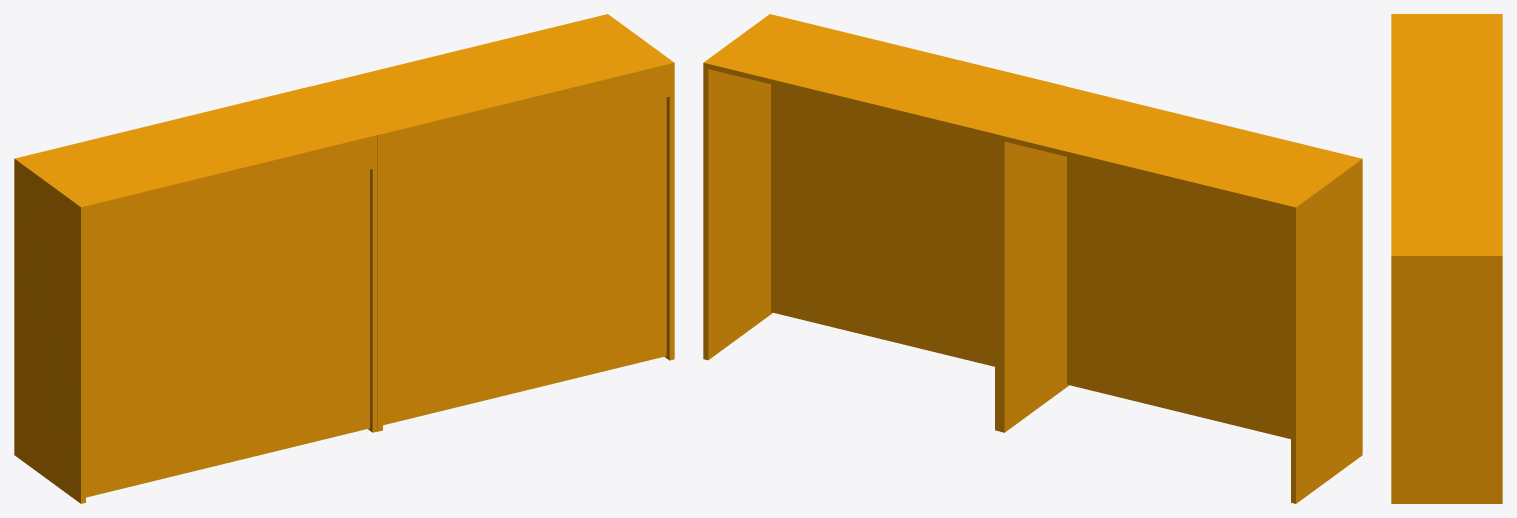
File: proyecto.glb
3 renders of one model, left to right at view 1: azimuth 30°, elevation 25°; view 2: azimuth 150°, elevation 25°; view 3: azimuth 270°, elevation 25°, orthographic. The views are drawn at different scales.
Visible parts, largest first — view 1: P003, P012, P017, P010, P001, P011, P002, P009, P018, P008; view 2: P003, P012, P017, P001, P010, P018, P009, P008; view 3: P009, P001, P010, P008, P017, P018.
Part boxes in pixels (<box>): P003: <box>383,97,666,425</box>; P012: <box>86,169,369,497</box>; P017: <box>14,157,85,503</box>; P010: <box>20,87,372,211</box>; P001: <box>316,15,669,138</box>; P011: <box>86,141,372,238</box>; P002: <box>383,69,669,166</box>; P009: <box>603,14,674,360</box>; P018: <box>306,86,377,432</box>; P008: <box>311,85,382,431</box>; P003: <box>771,84,994,366</box>; P012: <box>1067,157,1290,438</box>; P017: <box>1291,157,1362,503</box>; P001: <box>708,15,1060,138</box>; P010: <box>1004,87,1357,211</box>; P018: <box>999,86,1070,432</box>; P009: <box>703,14,774,360</box>; P008: <box>995,85,1065,431</box>; P009: <box>1391,254,1502,503</box>; P001: <box>1391,137,1502,253</box>; P010: <box>1391,16,1502,132</box>; P008: <box>1391,135,1502,136</box>; P017: <box>1391,14,1502,15</box>; P018: <box>1391,133,1502,134</box>.
Size of the model in its own units: 1.8 by 0.86 by 0.351.
